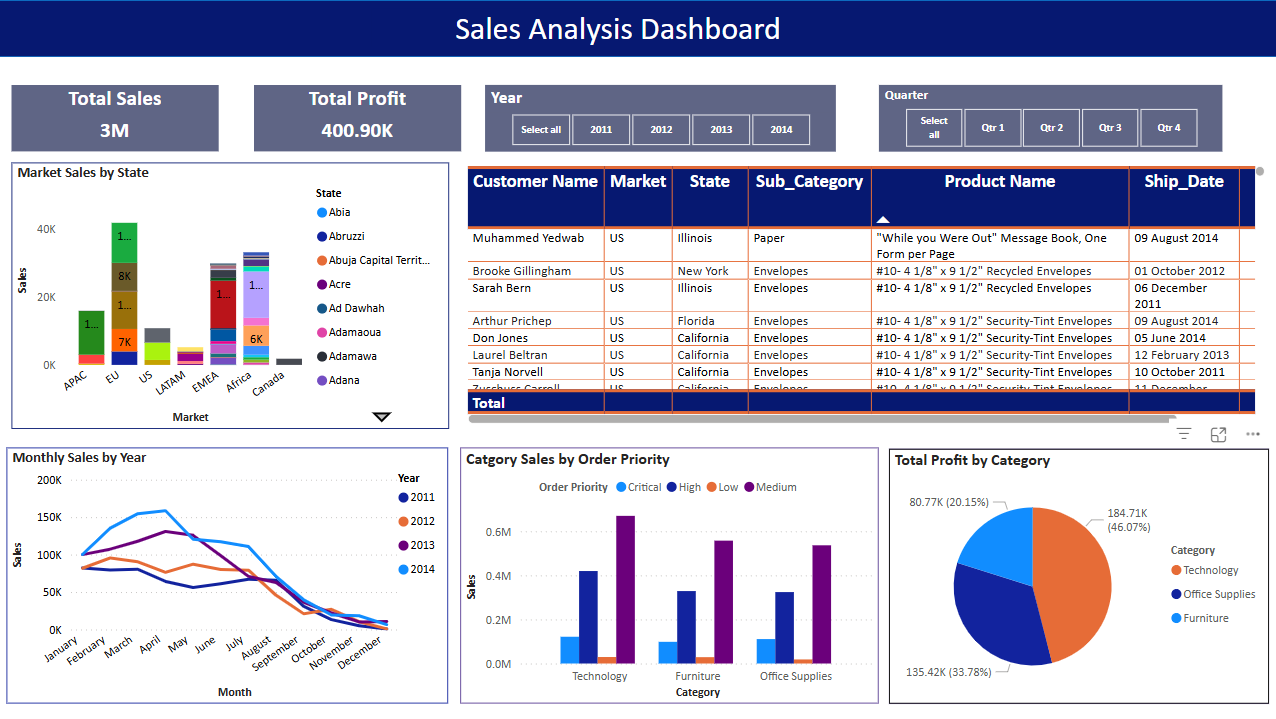

Layout of this report page (visuals, bound fields, positions):
{"tool":"powerbi","page":{"name":"SalesAnalysis","canvas":[1280,720],"ordinal":0},"visuals":[{"type":"card","title":"Total Sales","fields":{"Values":["SuperStoreOrders2.sales"]},"box":[12.8,84.9,207,66.3],"z":0},{"type":"card","title":"Total Profit","fields":{"Values":["SuperStoreOrders2.profit"]},"box":[254.7,84.9,207,66.3],"z":1000},{"type":"slicer","title":"Year","fields":{"Values":["SuperStoreOrders2.year"]},"box":[486,84.9,350,66.3],"z":2000},{"type":"tableEx","fields":{"Values":["SuperStoreOrders2.customer_name","SuperStoreOrders2.market","SuperStoreOrders2.state","SuperStoreOrders2.sub_category","SuperStoreOrders2.product_name","SuperStoreOrders2.ship_date","SuperStoreOrders2.sales"]},"box":[462,161.1,807.9,267],"z":3000},{"type":"columnChart","title":"Market Sales by State","fields":{"Y":["SuperStoreOrders2.sales"],"Category":["SuperStoreOrders2.market"],"Series":["SuperStoreOrders2.state"]},"box":[12.3,161.9,437.7,266.2],"z":4000},{"type":"lineChart","title":"Monthly Sales by Year","fields":{"Y":["SuperStoreOrders2.sales"],"Series":["SuperStoreOrders2.order_date.Variation.Date Hierarchy.Year"],"Category":["SuperStoreOrders2.order_date.Variation.Date Hierarchy.Month"]},"box":[7.9,447.3,441.7,255.8],"z":5000},{"type":"slicer","title":"Quarter","fields":{"Values":["SuperStoreOrders2.order_date.Variation.Date Hierarchy.Quarter"]},"box":[880.2,84.9,343,66.3],"z":6000},{"type":"clusteredColumnChart","title":"Catgory Sales by Order Priority","fields":{"Category":["SuperStoreOrders2.category"],"Y":["SuperStoreOrders2.sales"],"Series":["SuperStoreOrders2.order_priority"]},"box":[461.6,447.7,418.6,255.8],"z":7000},{"type":"pieChart","title":"Total Profit by Category","fields":{"Category":["SuperStoreOrders2.category"],"Y":["SuperStoreOrders2.profit"]},"box":[890,448.8,380,255],"z":8000},{"type":"shape","box":[0,0,1280.2,57],"z":9000},{"type":"textbox","title":"Sales Analysis Dashboard","box":[372.1,9.3,493,38.4],"z":10000}]}

Visuals, with their boxes in screenshot pixels (x1, y1, x2, y2), scaled from the page's 1280x720 canvas onto the 1276x719 screenshot:
"Total Sales" card: x1=13 y1=85 x2=219 y2=151
"Total Profit" card: x1=254 y1=85 x2=460 y2=151
"Year" slicer: x1=484 y1=85 x2=833 y2=151
tableEx - SuperStoreOrders2.customer_name x SuperStoreOrders2.market: x1=461 y1=161 x2=1266 y2=428
"Market Sales by State" columnChart: x1=12 y1=162 x2=449 y2=428
"Monthly Sales by Year" lineChart: x1=8 y1=447 x2=448 y2=702
"Quarter" slicer: x1=877 y1=85 x2=1219 y2=151
"Catgory Sales by Order Priority" clusteredColumnChart: x1=460 y1=447 x2=877 y2=703
"Total Profit by Category" pieChart: x1=887 y1=448 x2=1266 y2=703
shape: x1=0 y1=0 x2=1275 y2=57
"Sales Analysis Dashboard" textbox: x1=371 y1=9 x2=862 y2=48
